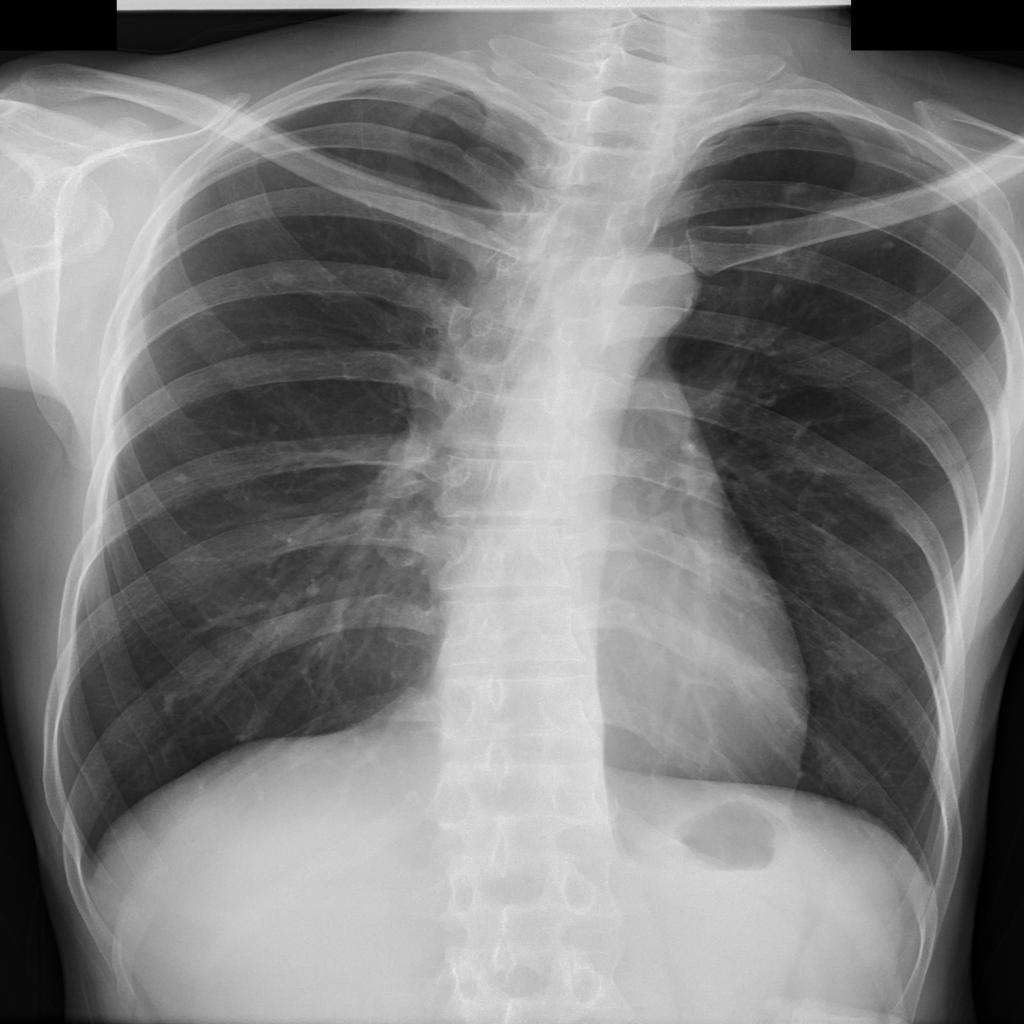Nodule: (779, 180, 811, 198), (884, 240, 897, 253)
